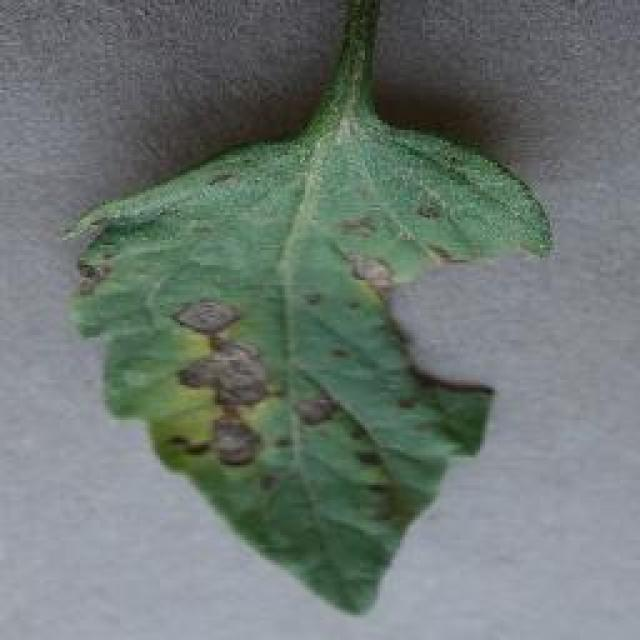Tomato___Early_blight: (67, 0, 561, 622)
